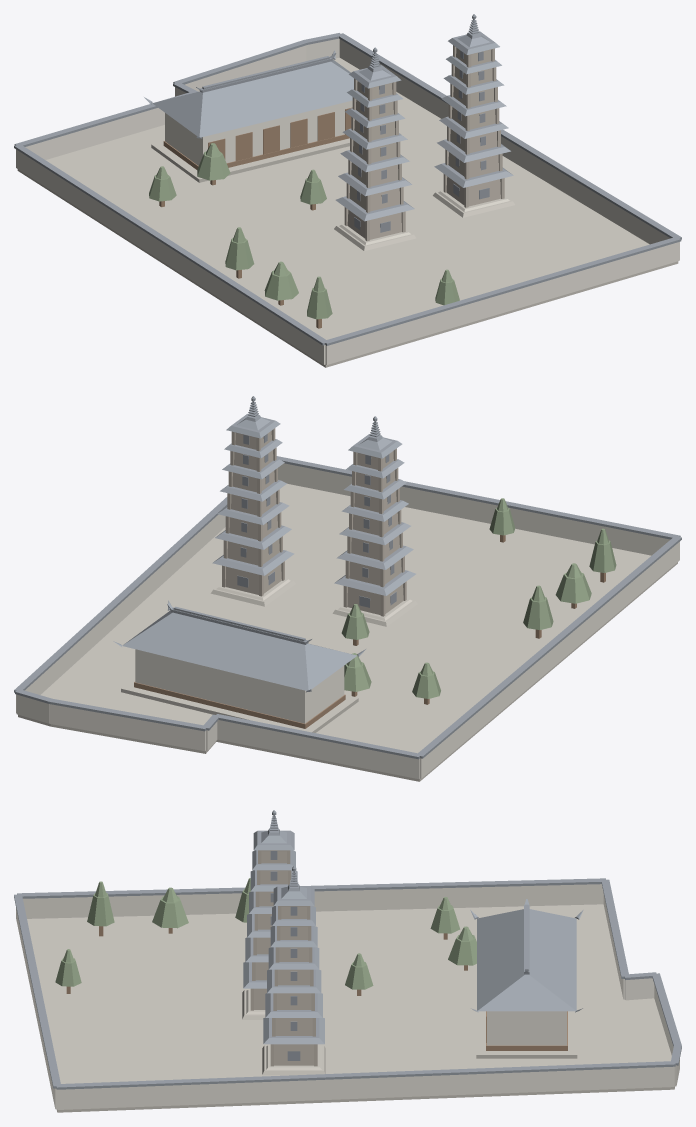
The model's file is shuangta.glb.
The picture shows the model from 3 angles, top to bottom: view 1: azimuth 30°, elevation 25°; view 2: azimuth 150°, elevation 25°; view 3: azimuth 270°, elevation 25°; orthographic projection. The views are drawn at different scales.
Visible parts, largest first — view 1: shuangta_stone, shuangta_tile, shuangta_wall, shuangta_brick, shuangta_leaf, shuangta_wood; view 2: shuangta_stone, shuangta_tile, shuangta_wall, shuangta_brick, shuangta_leaf, shuangta_wood; view 3: shuangta_stone, shuangta_tile, shuangta_wall, shuangta_brick, shuangta_leaf, shuangta_wood.
Part boxes in pixels (x1=…): shuangta_stone: x1=17, y1=57, x2=678, y2=367; shuangta_tile: x1=14, y1=14, x2=681, y2=345; shuangta_wall: x1=16, y1=38, x2=679, y2=364; shuangta_brick: x1=344, y1=45, x2=504, y2=241; shuangta_leaf: x1=149, y1=143, x2=459, y2=319; shuangta_wood: x1=159, y1=107, x2=352, y2=328; shuangta_stone: x1=18, y1=483, x2=677, y2=781; shuangta_tile: x1=14, y1=396, x2=681, y2=759; shuangta_wall: x1=16, y1=463, x2=679, y2=778; shuangta_brick: x1=222, y1=428, x2=406, y2=616; shuangta_leaf: x1=341, y1=498, x2=616, y2=698; shuangta_wood: x1=134, y1=535, x2=605, y2=728; shuangta_stone: x1=27, y1=904, x2=674, y2=1112; shuangta_tile: x1=14, y1=810, x2=681, y2=1089; shuangta_wall: x1=16, y1=884, x2=679, y2=1109; shuangta_brick: x1=250, y1=850, x2=317, y2=1066; shuangta_leaf: x1=55, y1=878, x2=476, y2=989; shuangta_wood: x1=66, y1=926, x2=567, y2=1050.
Bounding box in the file's own units: 74.41 × 33.05 × 100.
